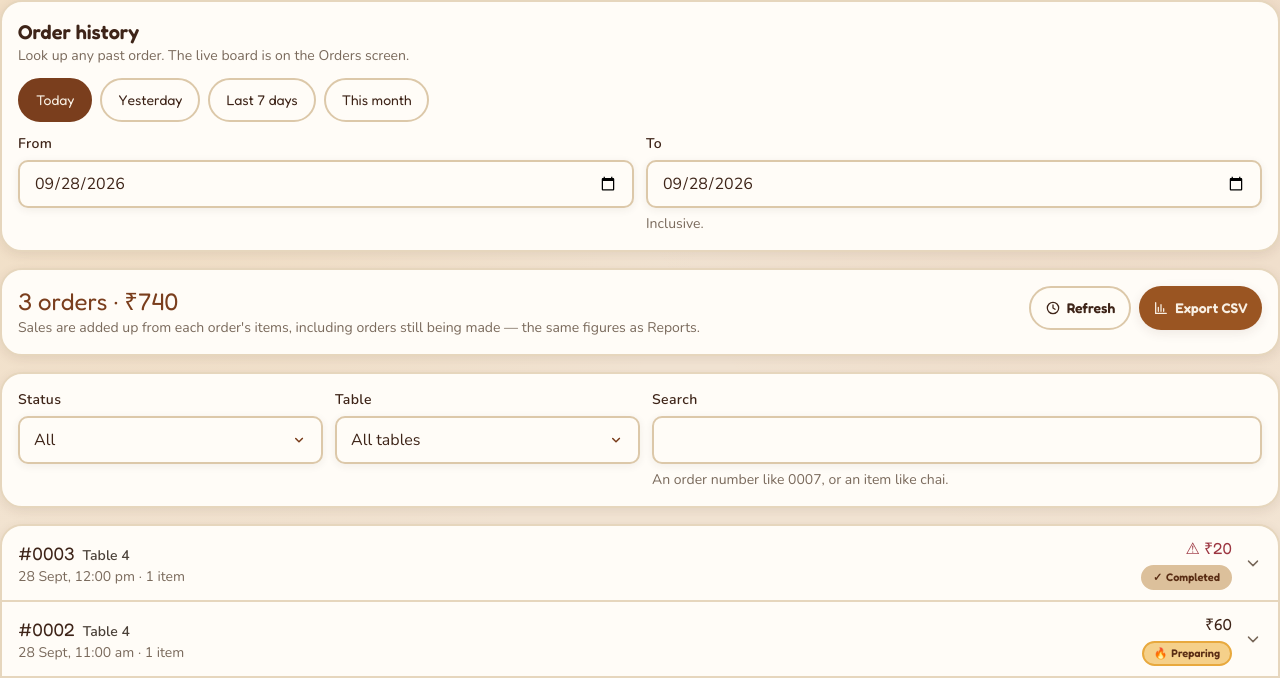
Test: order history: ranges › Yesterday queries its own range
Expected: the text "3 orders · ₹740" is shown, top-left (18, 287), bottom-right (178, 316)
Click the button "Yesterday". click: (150, 100)
box: top-left (100, 78), bottom-right (200, 122)
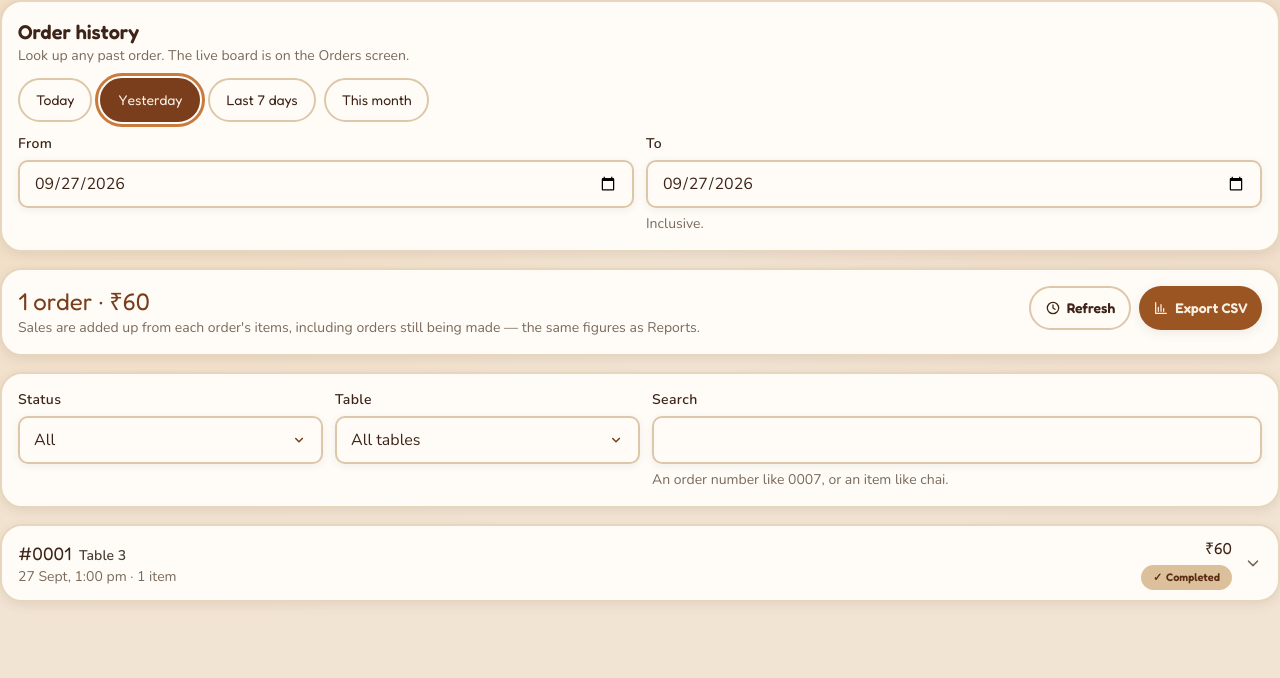
Now the text "1 order · ₹60" is shown, box top-left (18, 287), bottom-right (150, 316)
